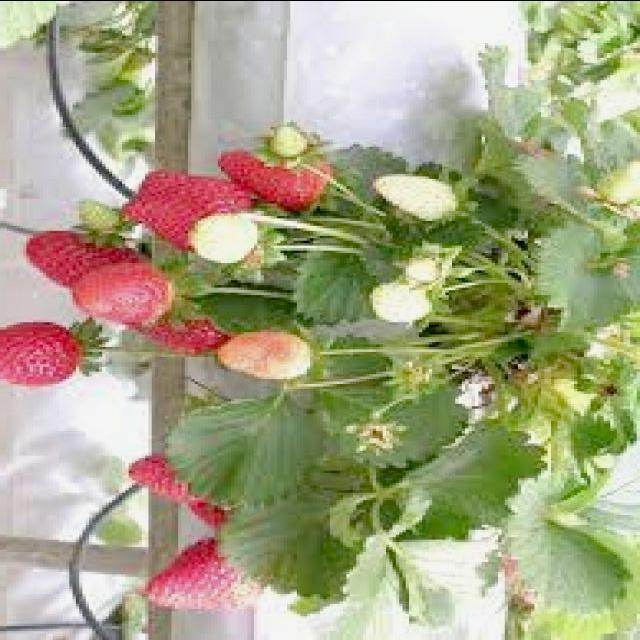ripe: (141, 536, 277, 618), (134, 162, 250, 250), (210, 144, 340, 212), (76, 256, 186, 330), (0, 316, 96, 393), (30, 229, 142, 291), (128, 451, 208, 501)
unripe: (213, 319, 321, 391), (373, 168, 462, 224), (364, 278, 441, 327), (197, 216, 270, 266), (396, 246, 454, 290), (264, 118, 318, 160)
